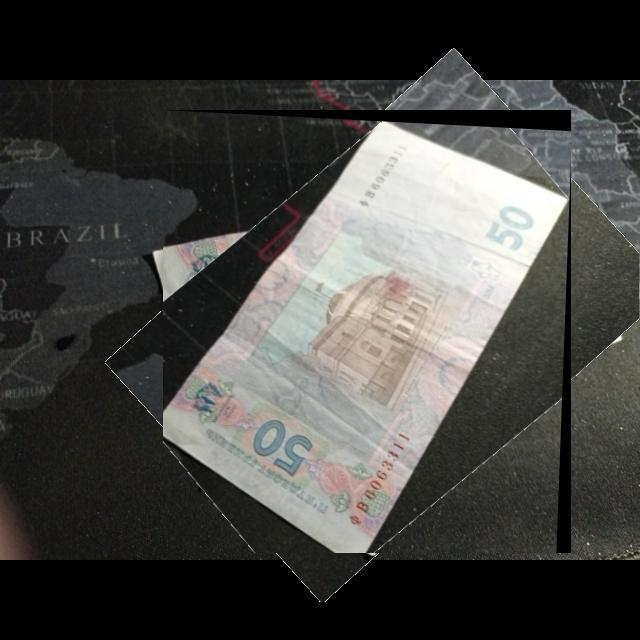50uah: (163, 119, 571, 554)
